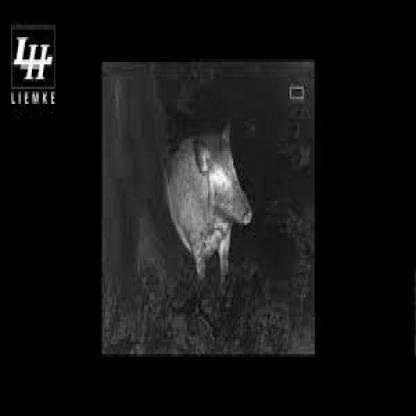rehkitze: (169, 120, 253, 280)
